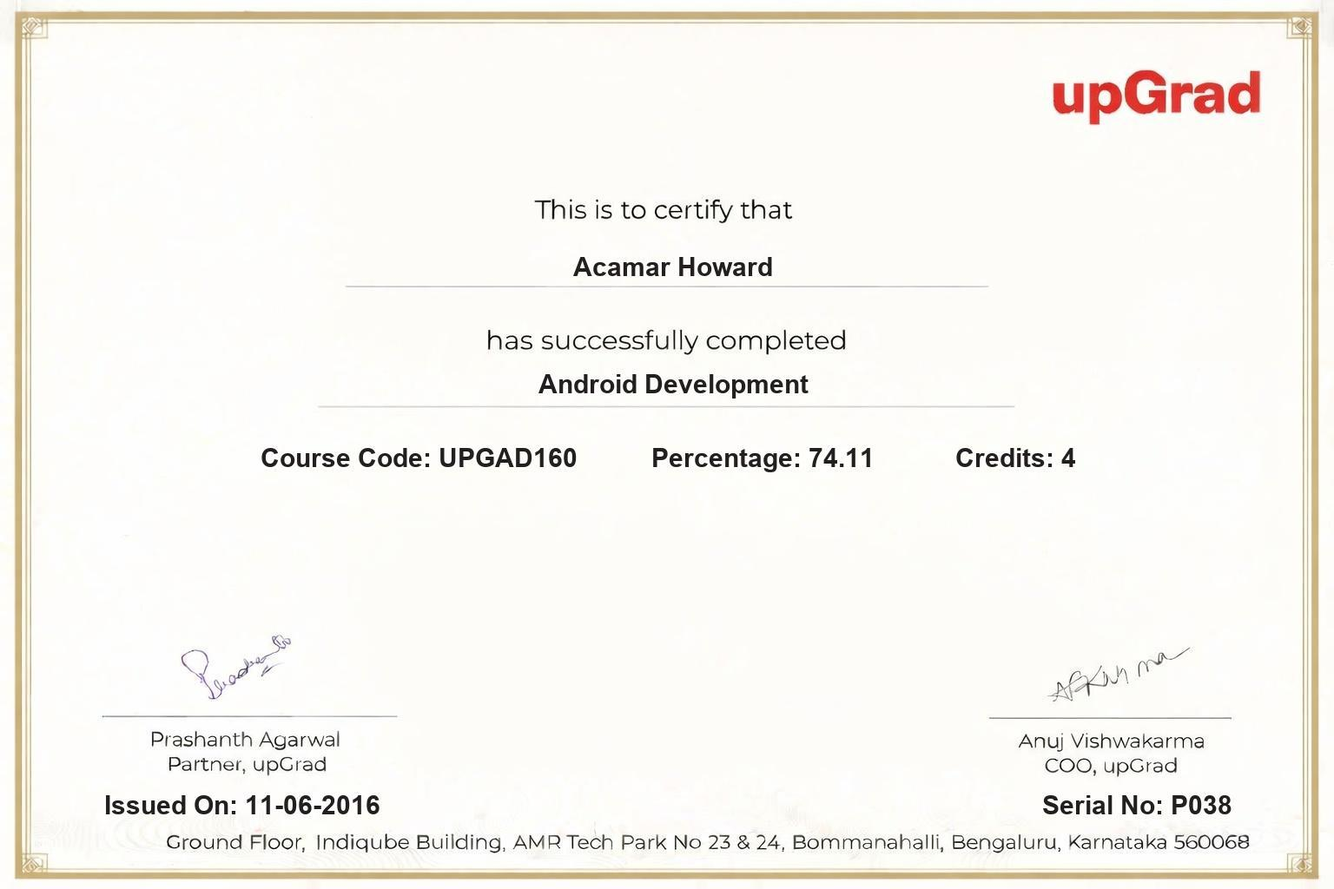Course Code: (437, 433, 584, 477)
Course Name: (531, 362, 821, 404)
Credits: (1054, 439, 1089, 479)
Issued On: (240, 788, 387, 825)
Percentage: (802, 436, 885, 477)
Serial No: (1165, 788, 1241, 823)
Student Name: (563, 241, 791, 290)
